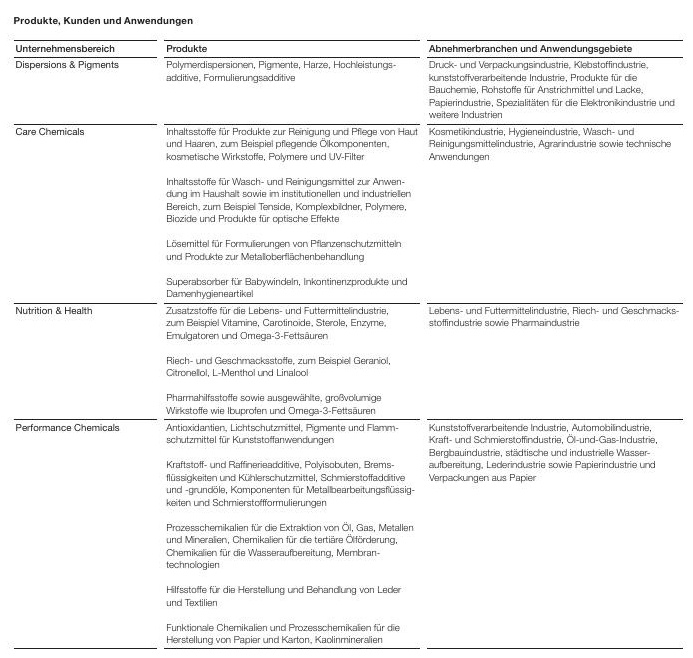table: (0, 0, 693, 658)
